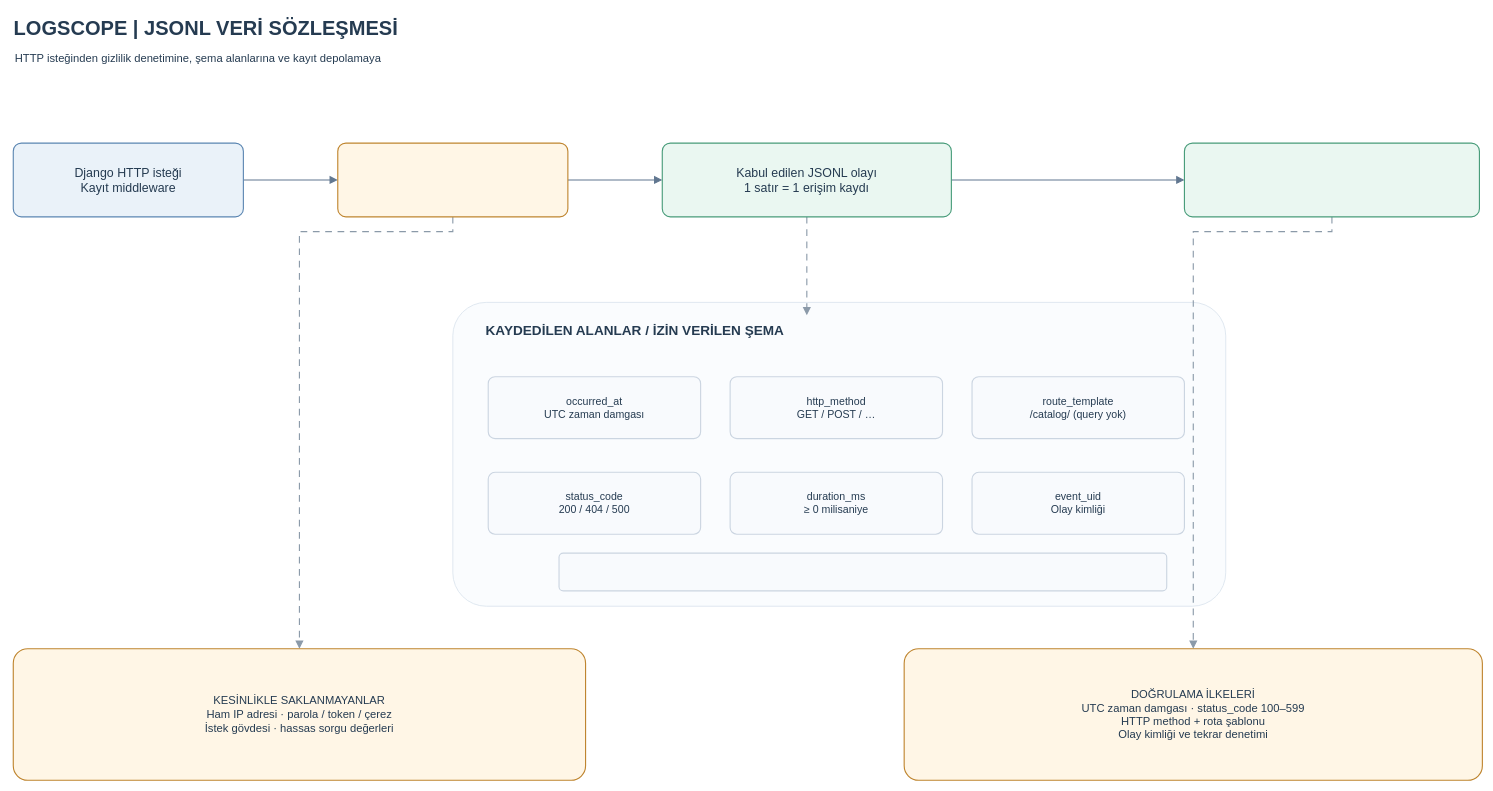
Some shapes in this 1493 by 791 pixel diagram are drawn without their labels. The shapes that lost their labels are listed below. From the top down, each one's centre as x and y in pixels, then its label:
At (452,179): "Ön işleme Gizlilik filtresi".
At (1332,179): "JSONL → ingest PostgreSQL depolama".
At (862,571): "session_ref (sentetik oturum) · schema_version (v1.0)".
